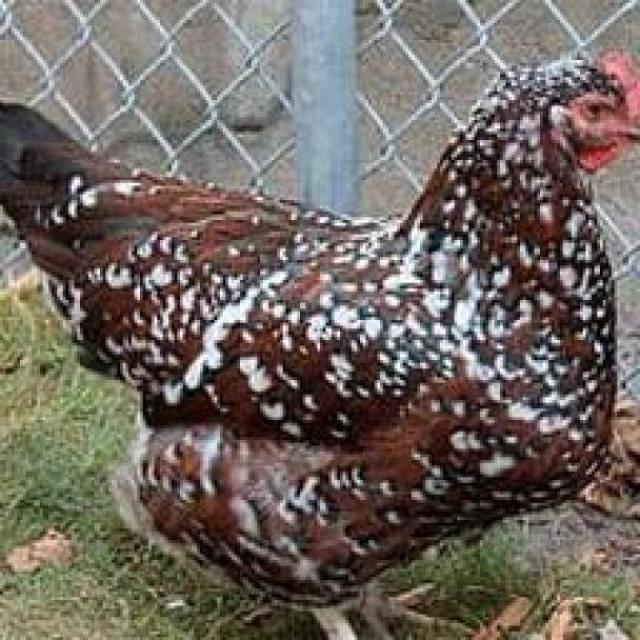Chicken: (2, 62, 640, 640)
